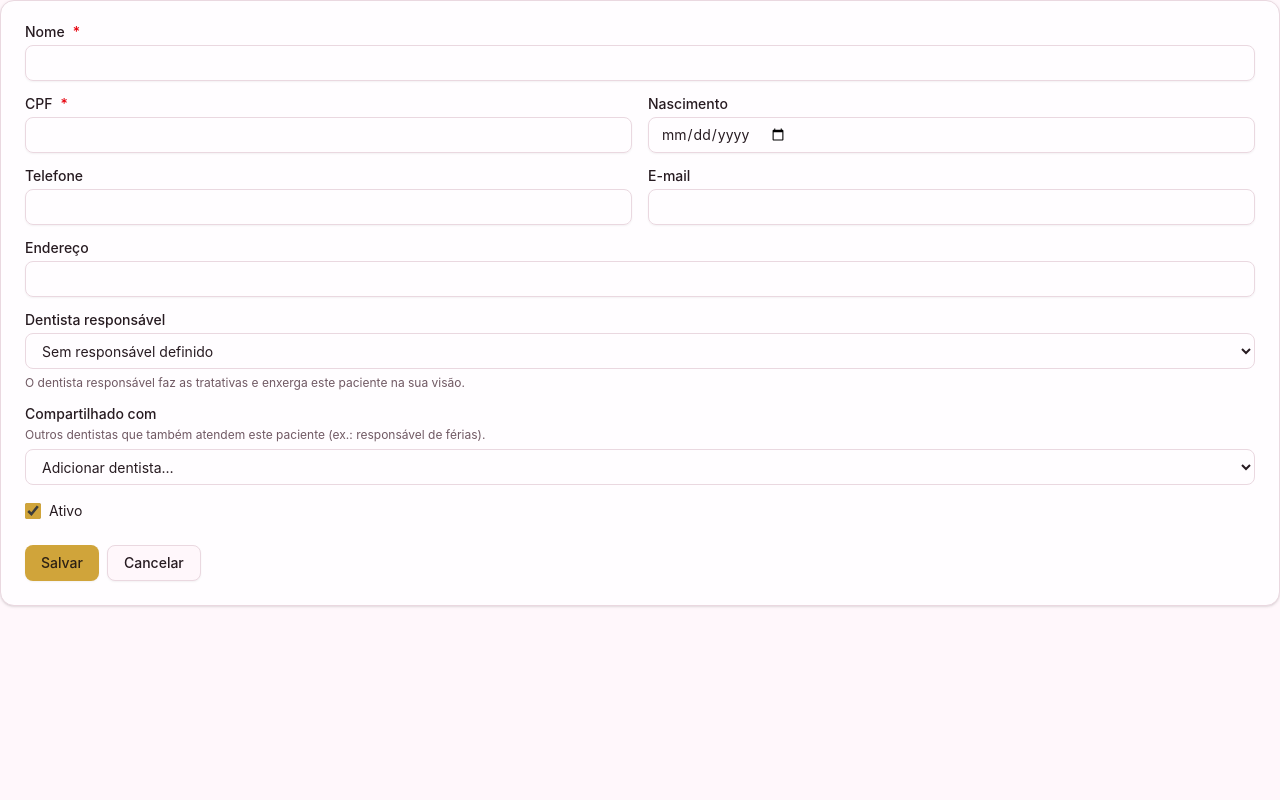
it: AbaDados › valida o CPF
The width and height of the screenshot is (1280, 800).
Click the button "Salvar" at [62, 563], box [25,545,99,581]
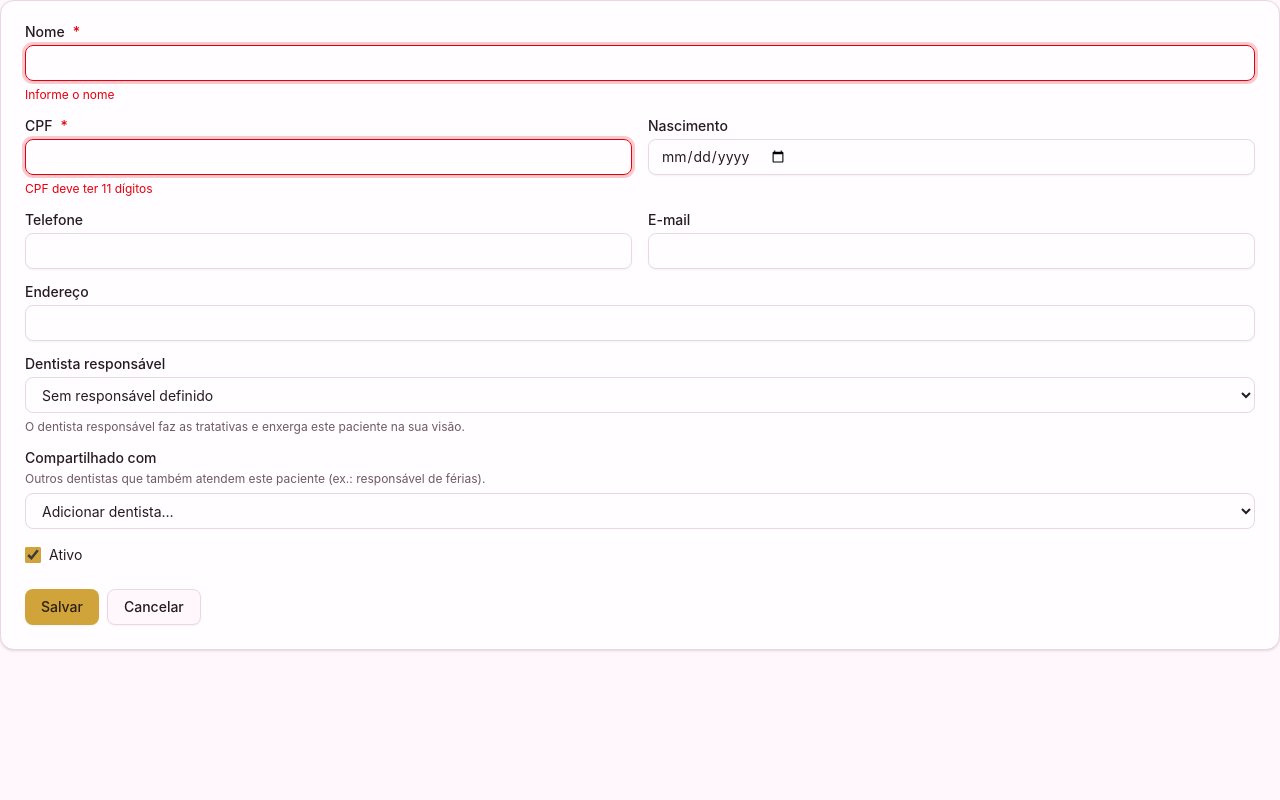
Result: the text "CPF deve ter 11 dígitos" is shown at [25,181,153,196]
